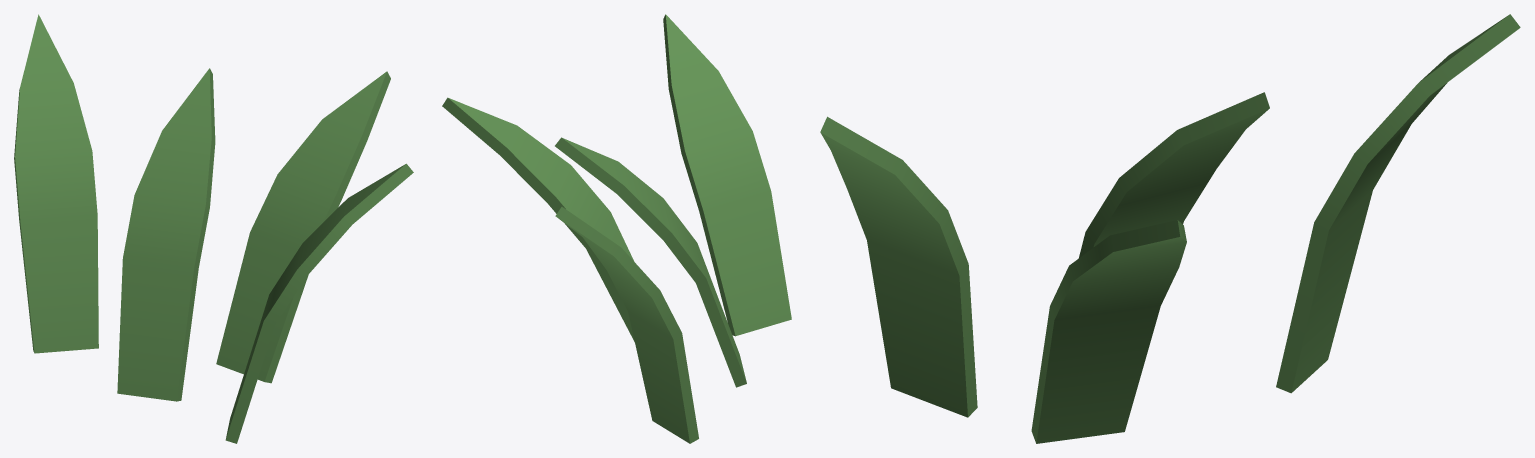
The model's file is Herbe_03.fbx.
3 views of the same model, side by side, from view 1: azimuth 30°, elevation 25°; view 2: azimuth 150°, elevation 25°; view 3: azimuth 270°, elevation 25° (orthographic). The views are drawn at different scales.
Parts seen in each view (by area): view 1: Herbe_03; view 2: Herbe_03; view 3: Herbe_03.
Part boxes in pixels (x1,y1,x2,y2): Herbe_03: (14,14,413,443); Herbe_03: (442,14,791,443); Herbe_03: (820,14,1520,443).
Bounding box in the file's own units: 36.12 × 30.44 × 49.05.
Materials: 1 (1 with a texture image).
